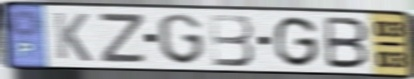B: (208, 13, 258, 68), (323, 15, 370, 70)
G: (155, 12, 207, 67), (273, 14, 321, 69)
K: (51, 11, 94, 64)
Z: (98, 12, 148, 65)
